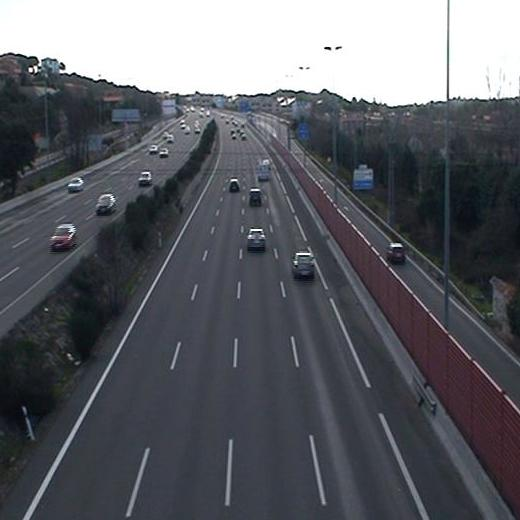car: (292, 253, 316, 278), (246, 228, 265, 248), (248, 187, 261, 205), (228, 179, 239, 192)
small-truck: (255, 158, 272, 180)
